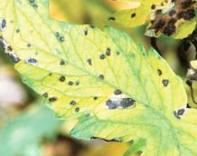Tomato leaf bacterial spot: (2, 0, 194, 156), (81, 0, 192, 74)
